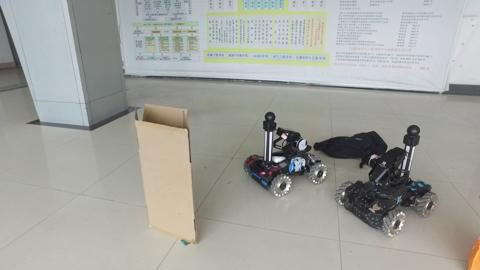box: (135, 102, 199, 245)
chariot: (335, 123, 440, 237), (246, 109, 331, 197)
